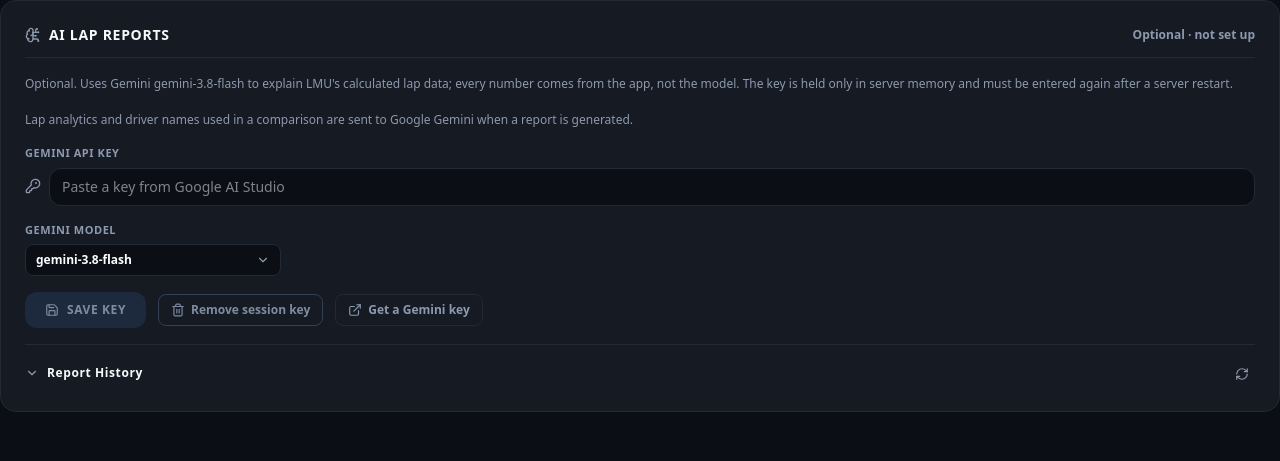
Test: Gemini key handling › leaves no trace of the key in the page after saving
Check: the text "Optional · not set up" is shown, box [1133, 27, 1255, 43]
Type "AIzaSyD-secret-key-0123456789" into the password field labelled "Gemini API key" at [652, 186], box [49, 168, 1255, 206]
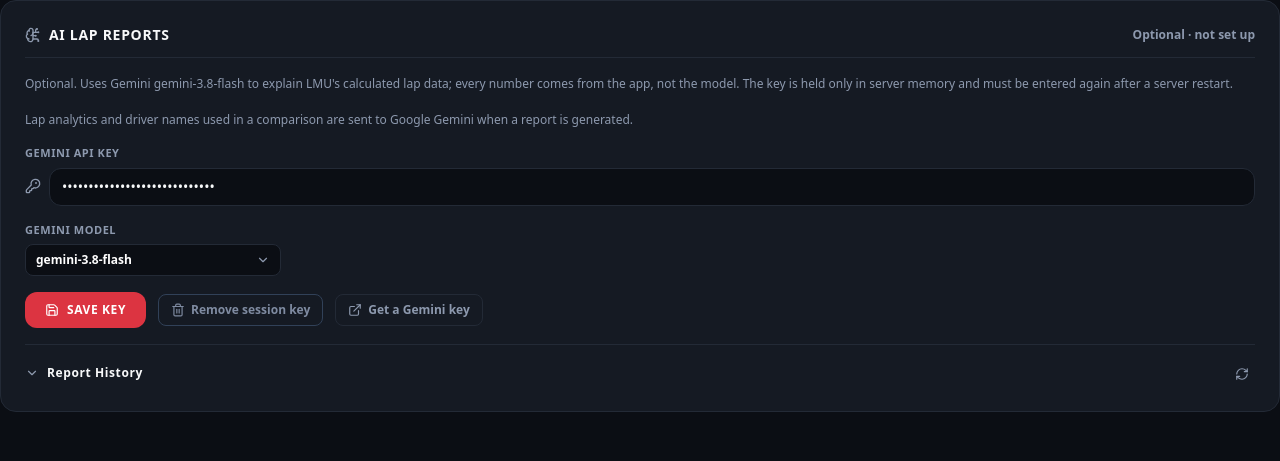
Click the button "Save Key" at [86, 310], box [25, 292, 146, 328]
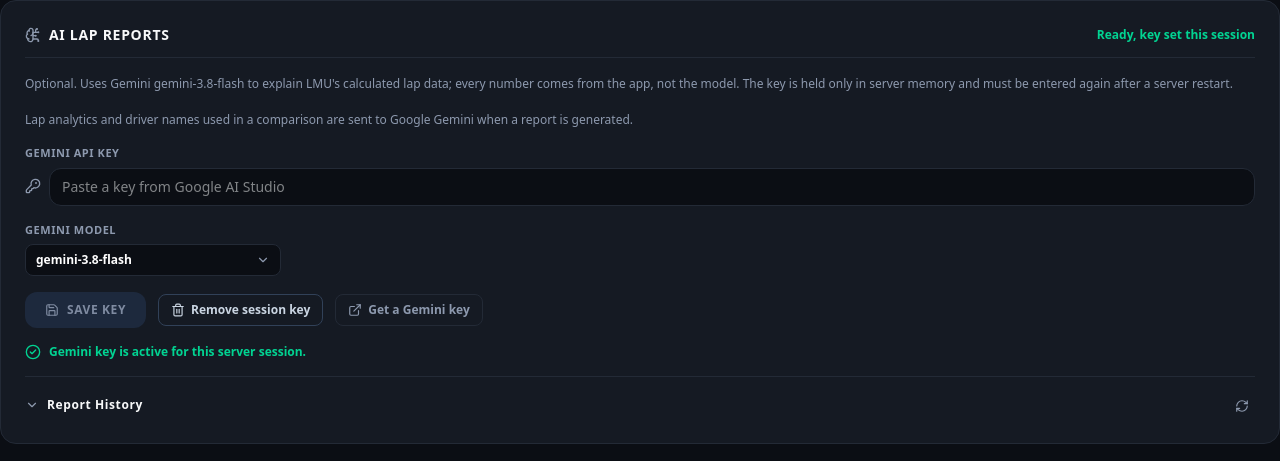
Check: the text "Gemini key is active for this server session." is shown, box [49, 344, 306, 360]
Check: the password field labelled "Gemini API key" is empty, box [49, 168, 1255, 206]
